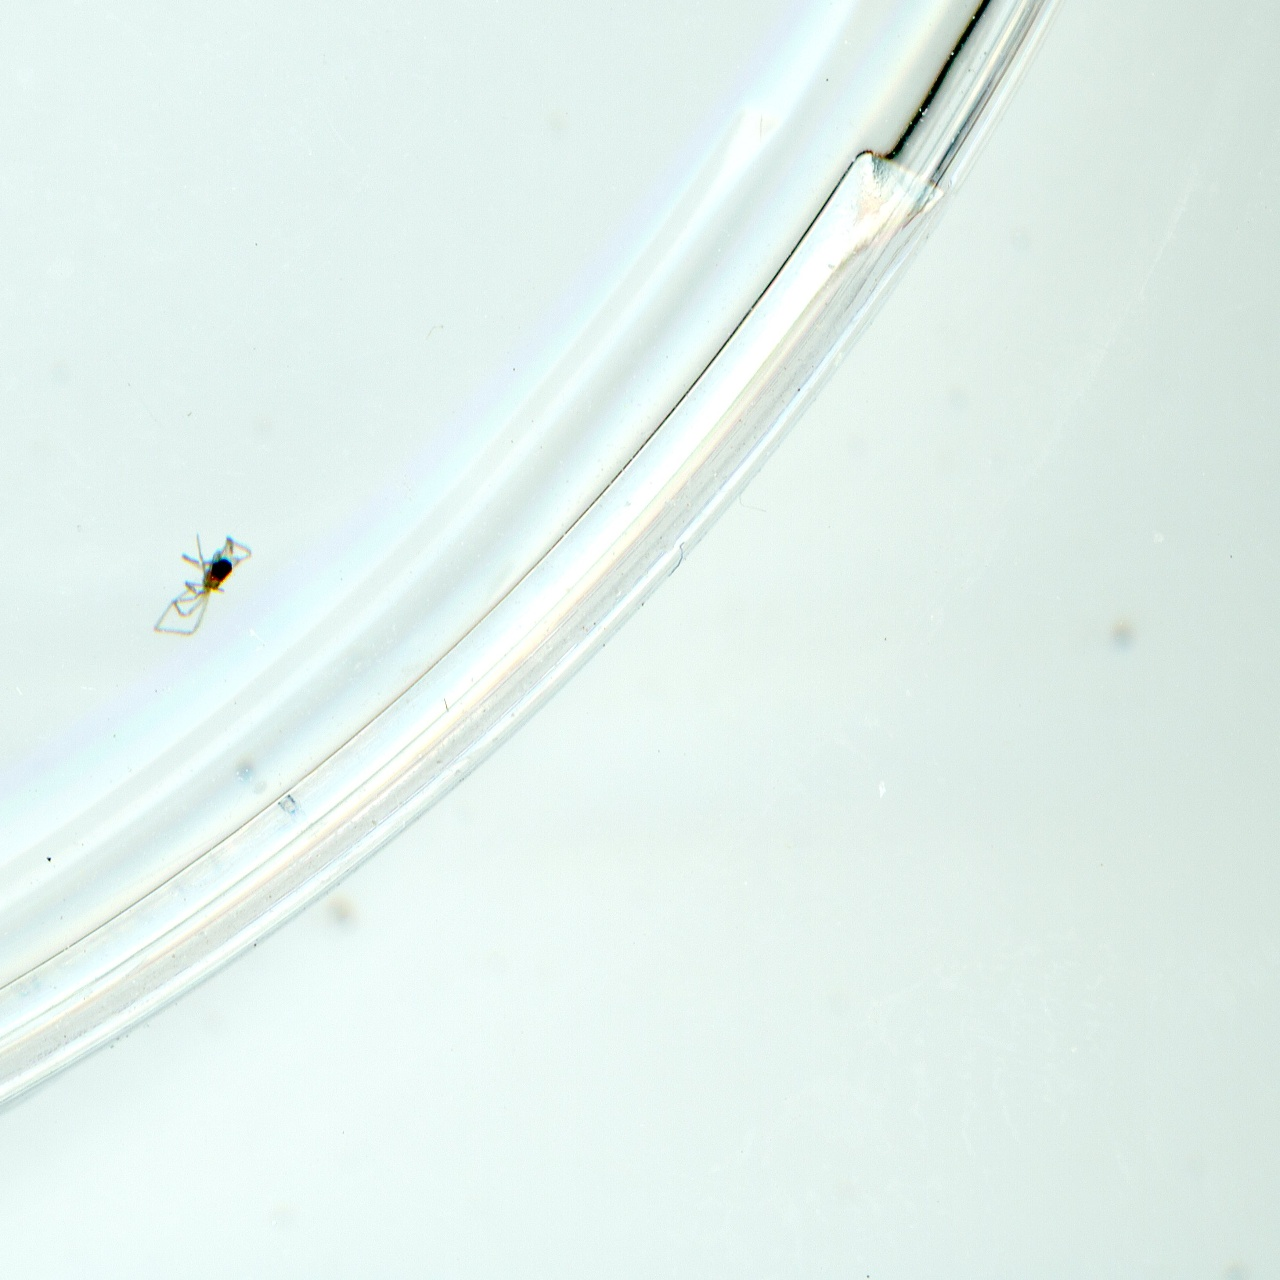arthropod: (135, 512, 260, 660)
